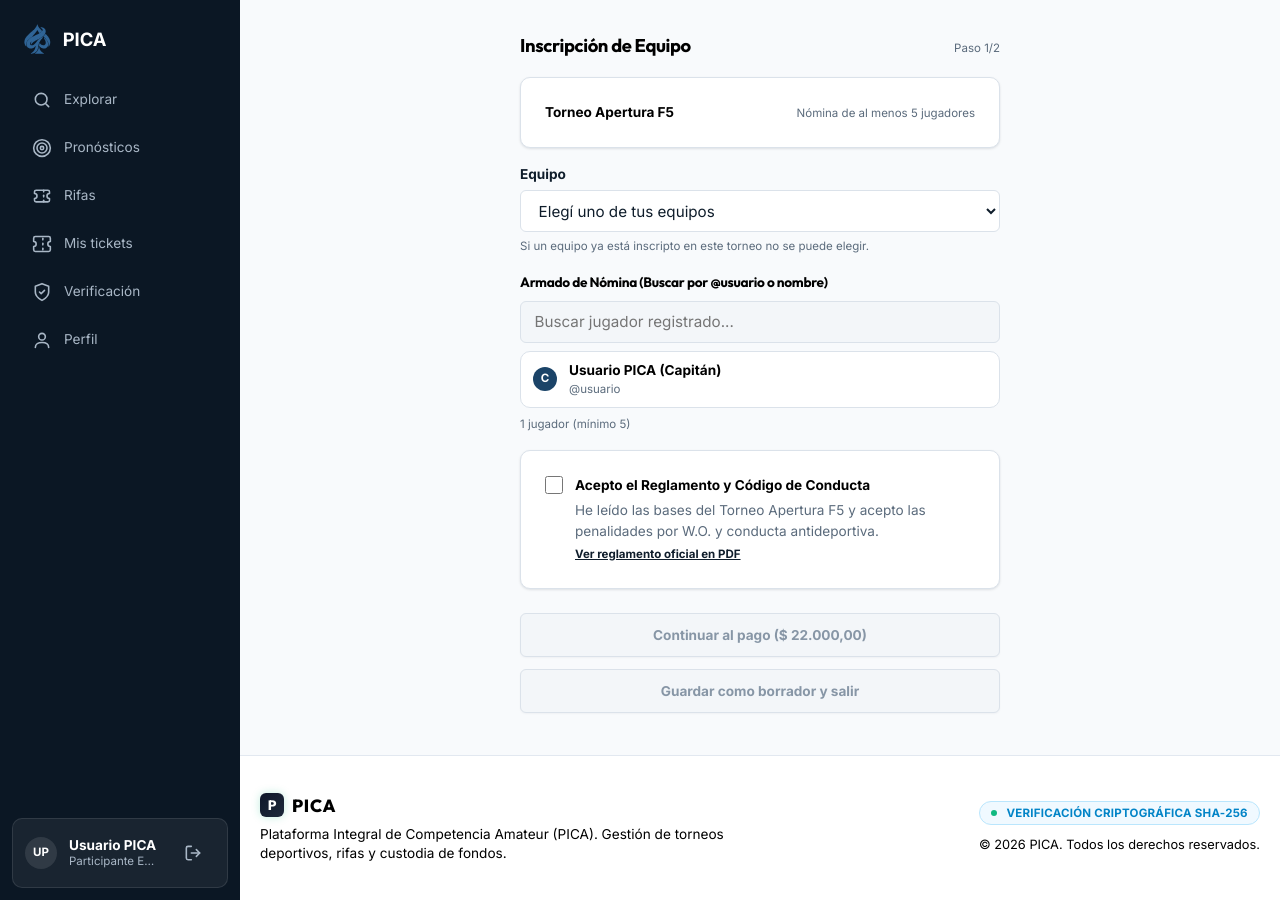
paso 1: equipo y nómina (alta) › mientras busca jugadores avisa que está buscando
Type "lucas" into the search field labelled "Buscar jugador registrado..." at coordinates (760, 322), box [520,301,1000,343]
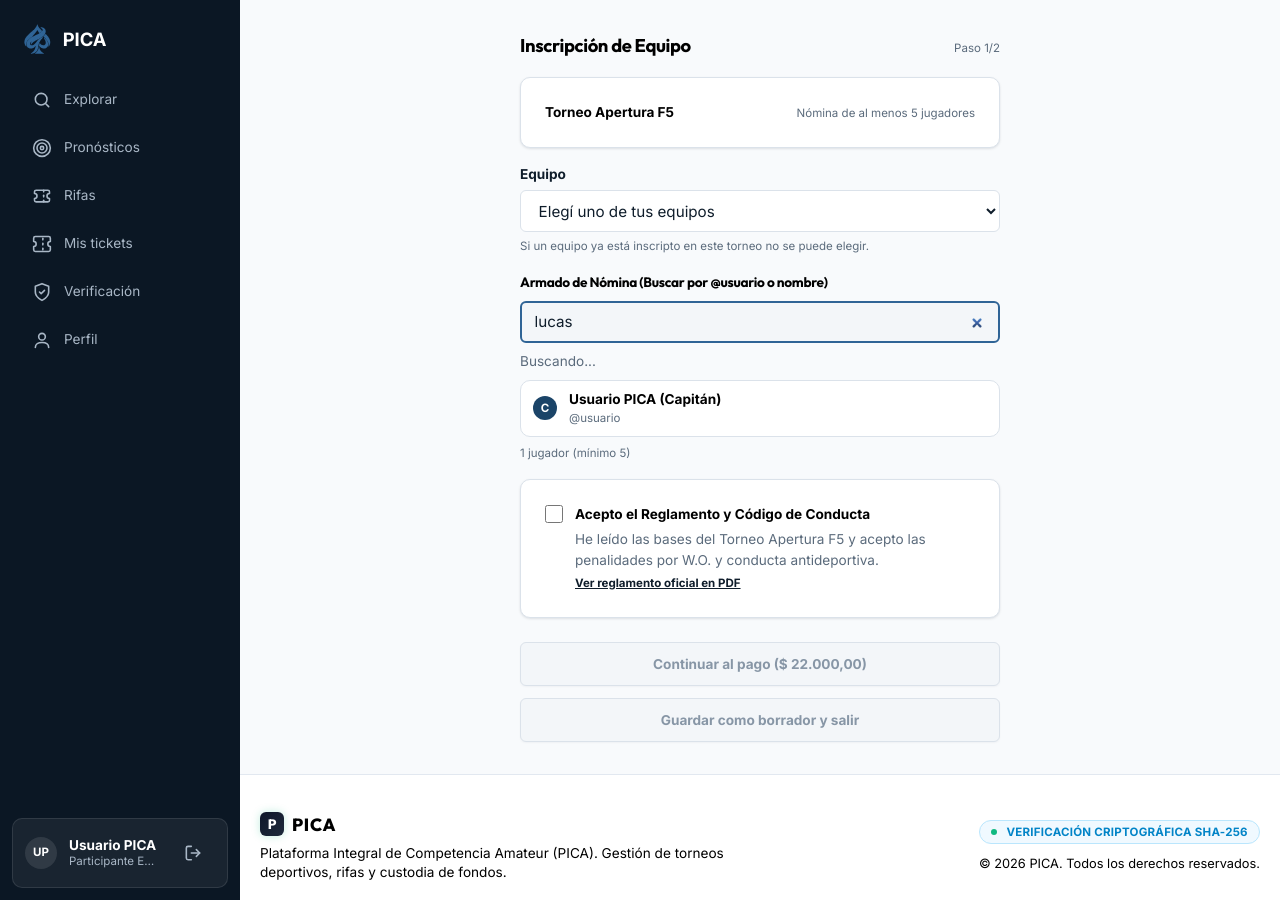
expect the message shows "Buscando": met, box [520,353,596,369]
